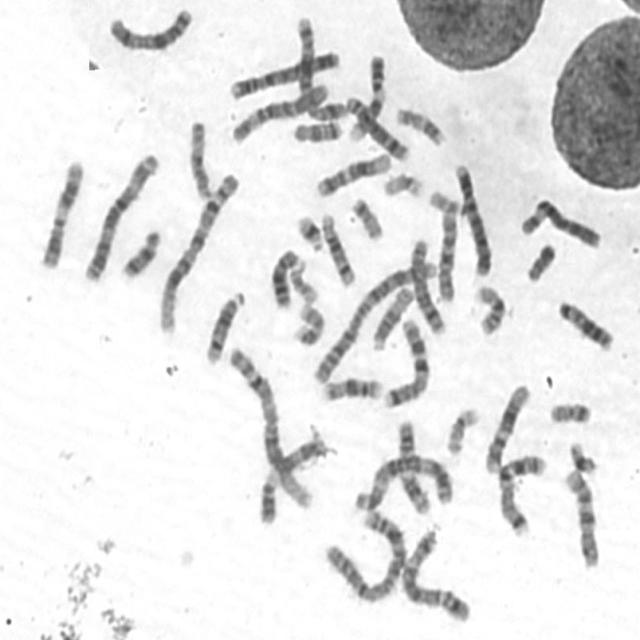A1: (221, 338, 315, 512), (154, 167, 241, 335)
A2: (307, 252, 443, 386), (318, 502, 408, 606)
A3: (78, 144, 162, 284), (348, 447, 456, 515)
B4: (222, 44, 344, 102), (449, 156, 494, 278)
B5: (396, 524, 473, 624), (291, 10, 348, 123)
C10: (558, 462, 602, 570), (431, 196, 461, 304)
C11: (34, 152, 86, 271), (393, 412, 433, 516)
C12: (479, 377, 532, 475), (311, 146, 394, 198)
C6: (226, 77, 331, 145), (515, 192, 603, 250)
C7: (378, 311, 431, 410), (492, 447, 549, 538)
C8: (341, 89, 411, 163), (405, 232, 447, 336)
C9: (254, 430, 329, 527), (343, 47, 389, 143)
D13: (552, 293, 616, 353), (266, 241, 302, 310)
D14: (199, 284, 247, 366), (315, 206, 358, 288)
D15: (367, 280, 416, 352), (182, 113, 215, 200)
E16: (468, 278, 508, 338), (316, 370, 385, 404)
E17: (391, 100, 447, 148), (288, 297, 326, 348)
E18: (114, 222, 162, 280), (288, 114, 344, 144)
F19: (440, 400, 481, 458), (377, 165, 426, 200)
F20: (346, 190, 385, 242), (544, 394, 594, 426)
G21: (291, 207, 326, 254), (564, 434, 600, 476)
G22: (284, 258, 320, 304), (423, 184, 464, 216)
X: (103, 1, 195, 54)
Y: (520, 236, 558, 284)
